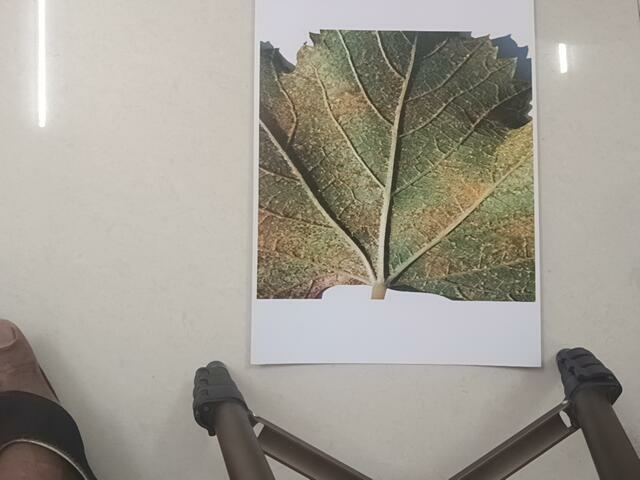Grape_Rust_Fungus: (254, 31, 542, 298)
